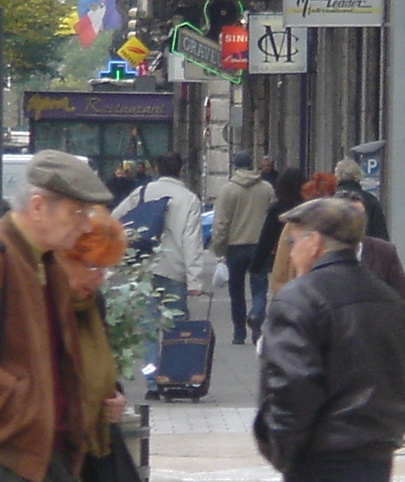person: (217, 148, 278, 347)
